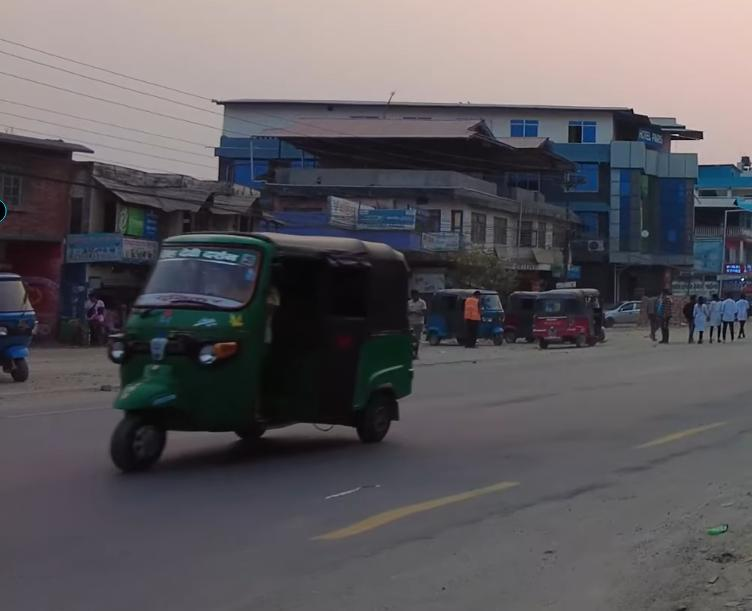auto_rickshaw: (95, 222, 427, 482), (532, 284, 610, 354), (425, 285, 510, 346), (0, 266, 41, 387), (508, 286, 543, 344)
